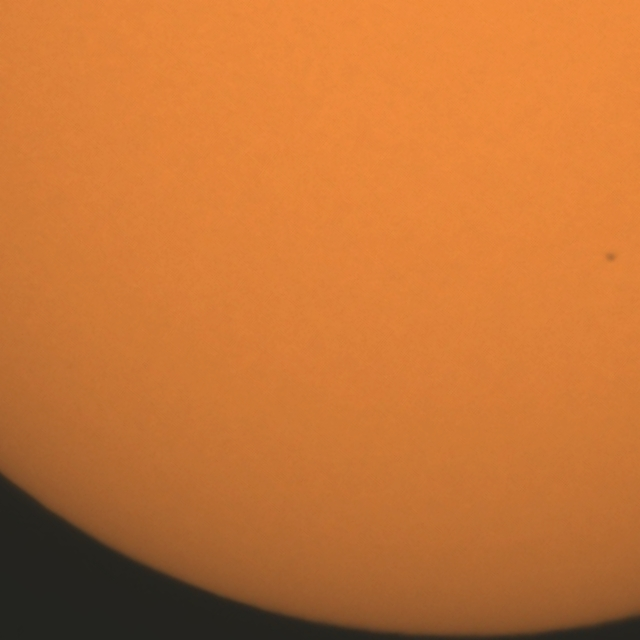sunspot: (602, 249, 620, 266)
